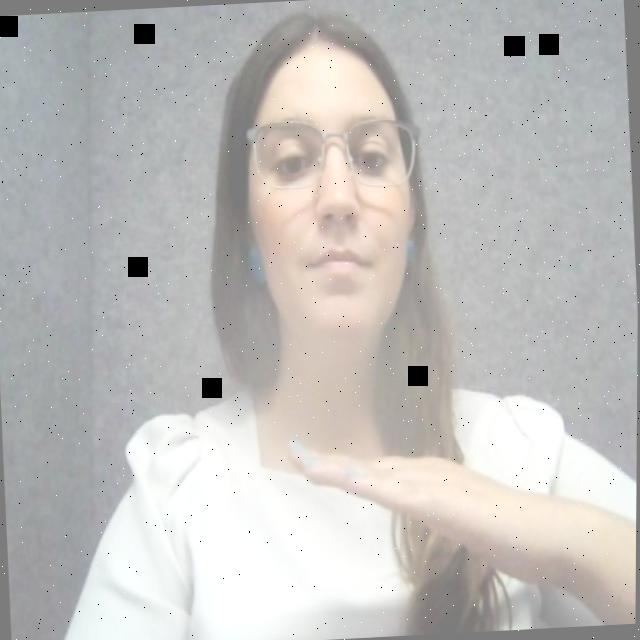Paper: (260, 394, 594, 623)
